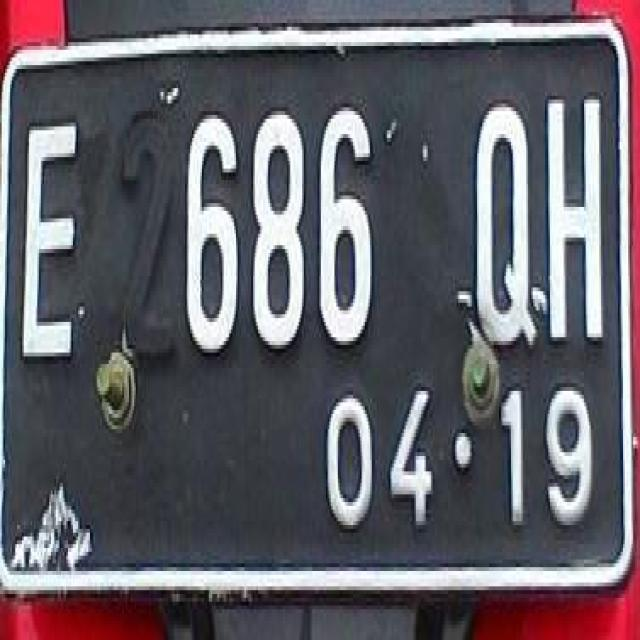2: (112, 114, 185, 362)
6: (315, 106, 376, 354), (184, 107, 242, 353)
8: (250, 104, 310, 356)
E: (20, 117, 80, 366)
H: (542, 88, 610, 353)
Q: (471, 93, 539, 354)
